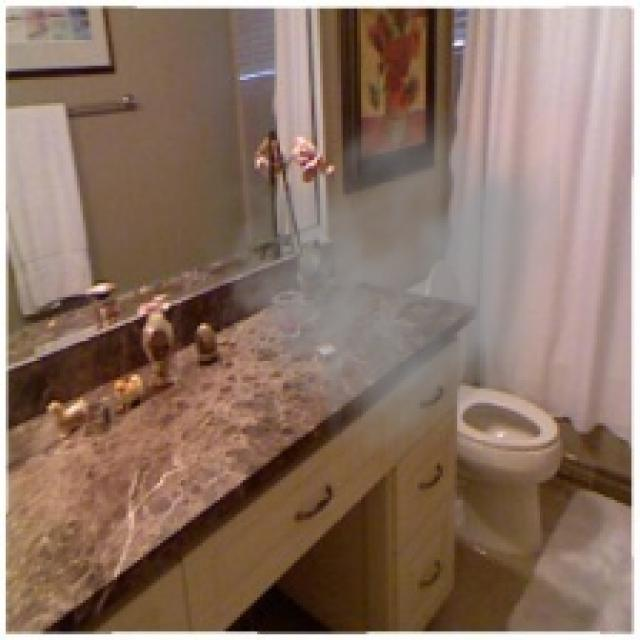smoke: (186, 86, 560, 471)
